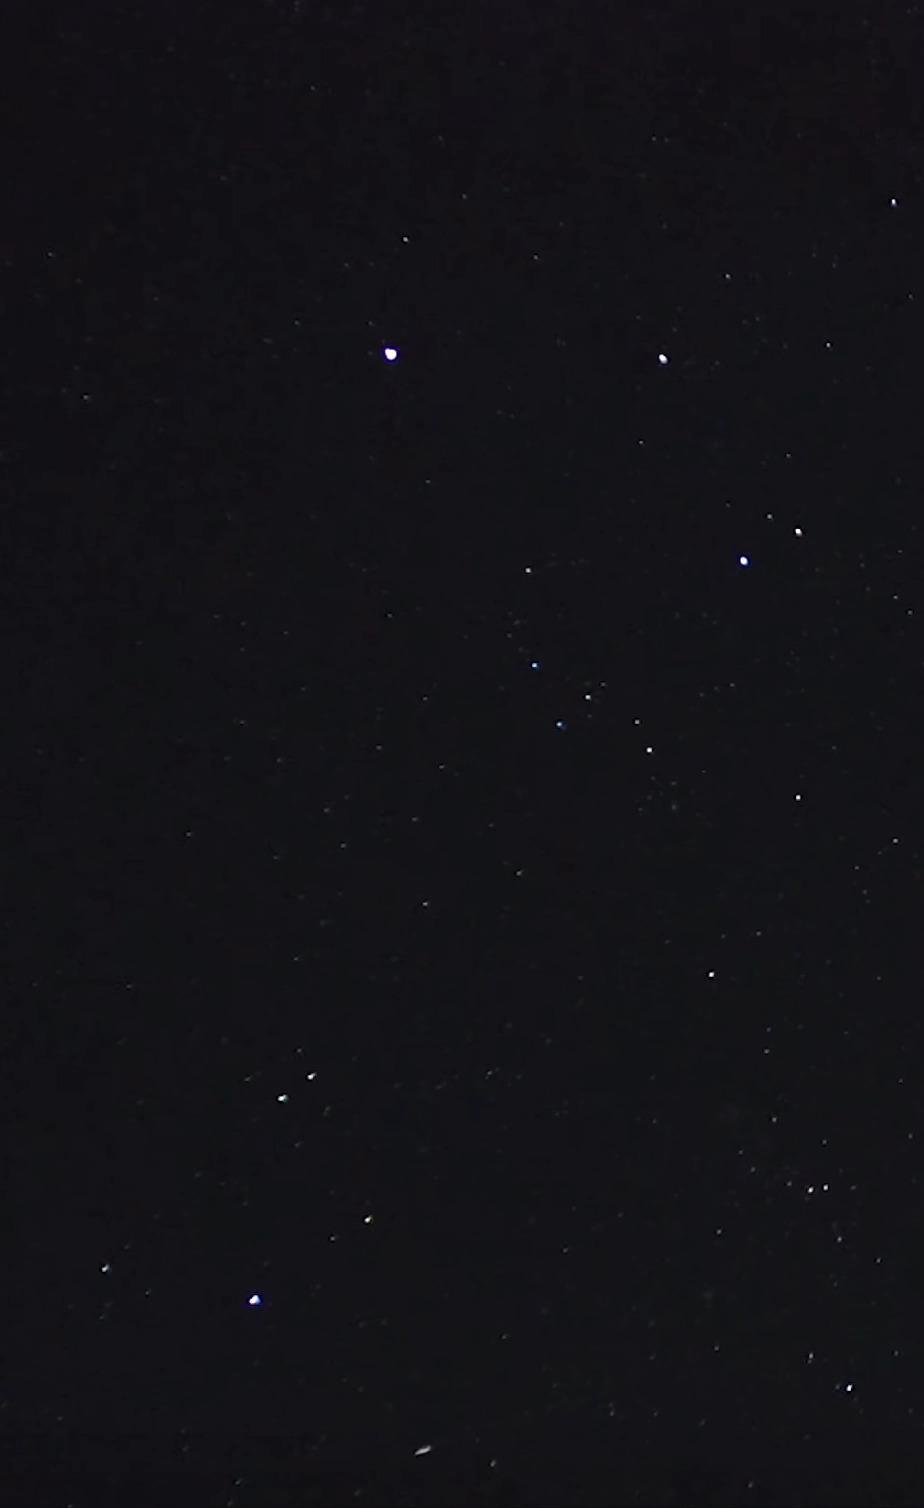meteorite: (400, 1428, 449, 1471)
